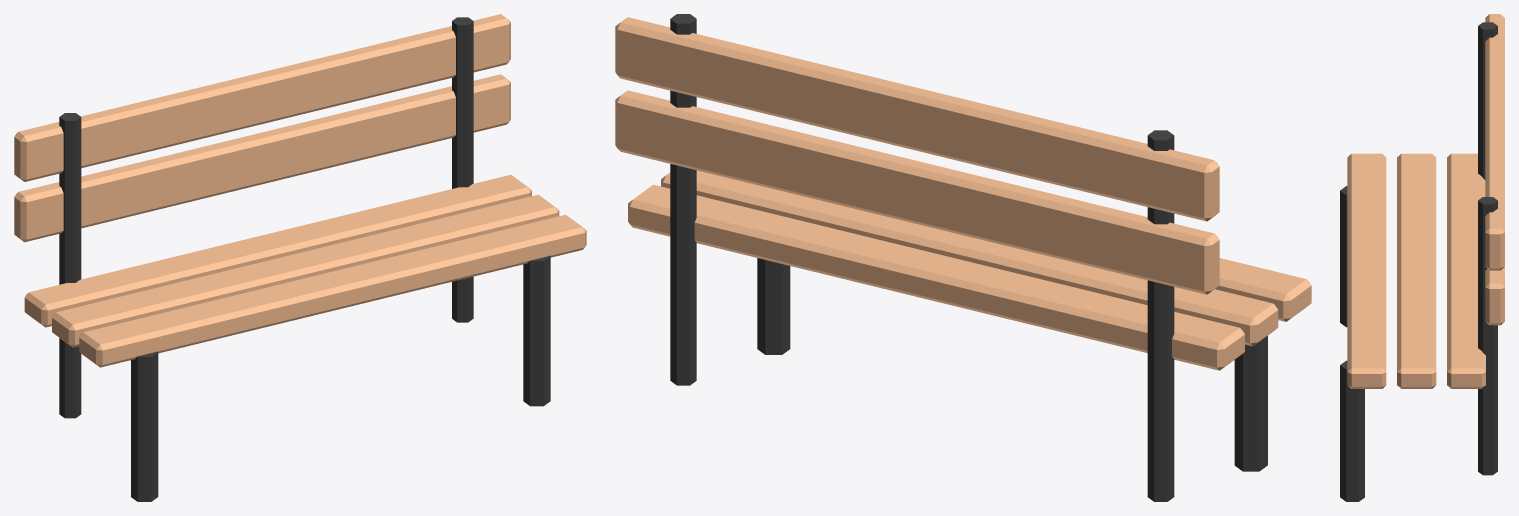
3 views of the same model, side by side, from view 1: azimuth 30°, elevation 25°; view 2: azimuth 150°, elevation 25°; view 3: azimuth 270°, elevation 25° (orthographic). The views are drawn at different scales.
Visible parts, largest first — view 1: Back slat.001, Back slat, Seat slat, Seat slat.001, Seat slat.002, Back support, Back support.001, Front leg.001, Front leg; view 2: Back slat, Back slat.001, Seat slat.002, Seat slat.001, Back support, Back support.001, Front leg, Seat slat, Front leg.001; view 3: Seat slat, Seat slat.001, Seat slat.002, Back slat.001, Back support.001, Front leg.001, Back support, Back slat, Front leg.
Boxes of the visible parts, box(x1,y1,x2,y2) form: Back slat.001: box(14, 14, 510, 181); Back slat: box(14, 74, 510, 242); Seat slat: box(79, 214, 586, 367); Seat slat.001: box(52, 194, 559, 347); Seat slat.002: box(24, 174, 531, 327); Back support: box(59, 113, 81, 418); Back support.001: box(452, 17, 473, 322); Front leg.001: box(523, 256, 550, 406); Front leg: box(131, 351, 158, 501); Back slat: box(615, 90, 1219, 294); Back slat.001: box(615, 17, 1219, 221); Seat slat.002: box(628, 184, 1244, 370); Seat slat.001: box(661, 170, 1278, 346); Back support: box(1147, 130, 1174, 501); Back support.001: box(670, 14, 696, 385); Front leg: box(1234, 335, 1267, 471); Seat slat: box(1215, 258, 1311, 321); Front leg.001: box(757, 258, 790, 354); Seat slat: box(1347, 153, 1386, 388); Seat slat.001: box(1397, 153, 1436, 388); Seat slat.002: box(1447, 153, 1485, 388); Back slat.001: box(1485, 14, 1504, 270); Back support.001: box(1478, 197, 1497, 475); Front leg.001: box(1340, 360, 1364, 501); Back support: box(1478, 22, 1497, 179); Back slat: box(1485, 267, 1504, 325); Front leg: box(1340, 186, 1347, 327).
Bounding box in the file's own units: 1.45 × 0.92 × 0.4625.
Materials: 1 (1 with a texture image).
